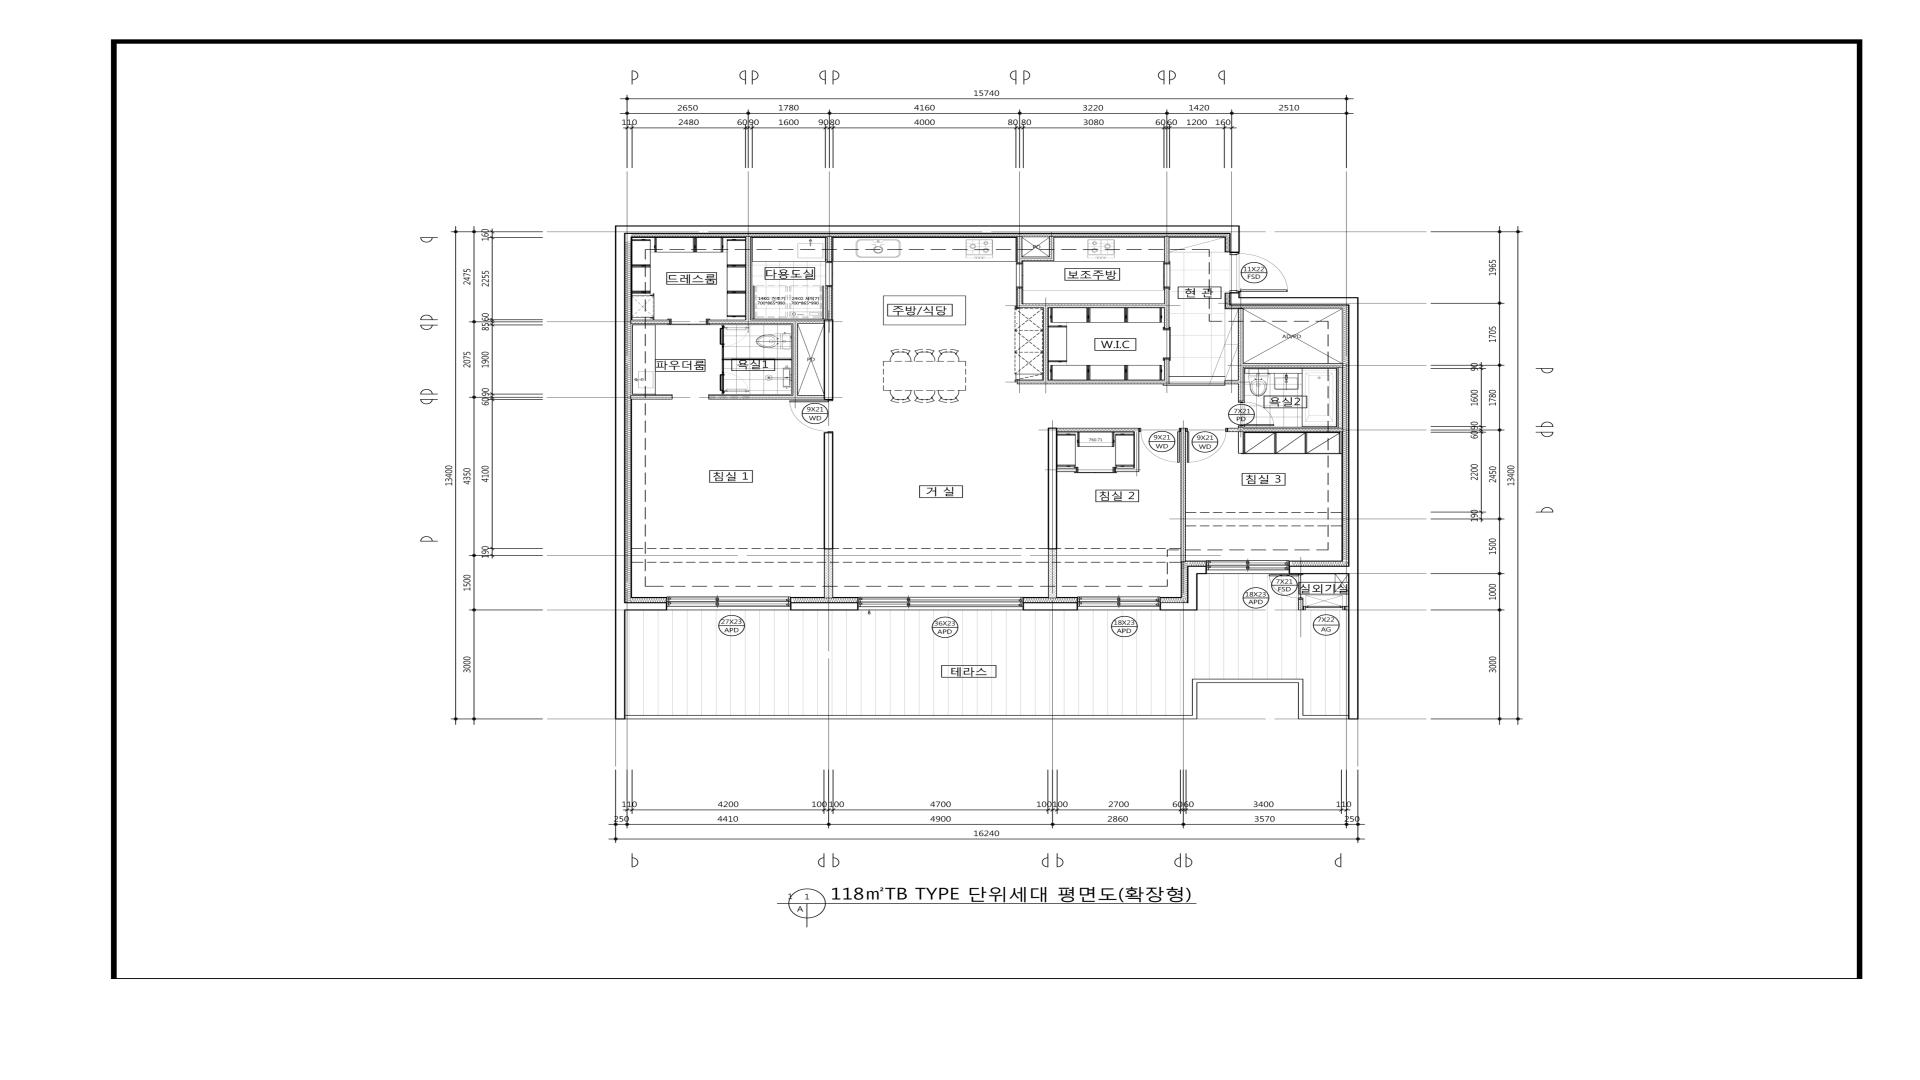door: (1240, 253, 1292, 291), (1141, 430, 1180, 463), (1188, 430, 1226, 463), (791, 401, 832, 431), (1241, 402, 1274, 426), (720, 327, 749, 347), (720, 373, 749, 392), (1076, 467, 1114, 473), (1163, 330, 1171, 359), (1163, 262, 1171, 289), (670, 319, 708, 324), (1015, 264, 1023, 287), (825, 262, 833, 286)
wall: (615, 225, 1240, 611), (1229, 291, 1358, 611), (1160, 566, 1207, 611), (1047, 427, 1058, 549), (823, 433, 833, 549), (1180, 427, 1187, 562), (1017, 303, 1164, 309), (824, 319, 833, 400), (708, 319, 824, 324), (1017, 380, 1164, 384), (745, 236, 752, 319), (790, 603, 858, 611), (1244, 363, 1344, 368), (1238, 309, 1244, 402), (1042, 307, 1048, 380), (1288, 566, 1348, 574), (1226, 427, 1344, 431), (712, 396, 827, 400), (1048, 549, 1058, 597), (824, 549, 833, 597), (1058, 427, 1139, 433), (1023, 603, 1077, 611), (793, 324, 798, 396), (1337, 368, 1342, 429), (1164, 289, 1171, 330), (630, 394, 673, 400), (827, 286, 833, 319), (1134, 431, 1139, 468), (1022, 256, 1054, 261), (630, 320, 670, 324), (1017, 236, 1022, 264), (827, 236, 832, 262), (1164, 236, 1170, 262), (1164, 359, 1170, 384), (1048, 236, 1055, 256), (1238, 433, 1244, 454), (1114, 468, 1138, 472), (1017, 287, 1022, 303), (1058, 468, 1076, 472), (1298, 599, 1303, 611), (1225, 380, 1238, 384), (1344, 605, 1348, 611)
window: (858, 597, 1023, 611), (666, 596, 790, 611), (1077, 596, 1160, 611), (1207, 560, 1288, 574), (1303, 605, 1344, 611)
